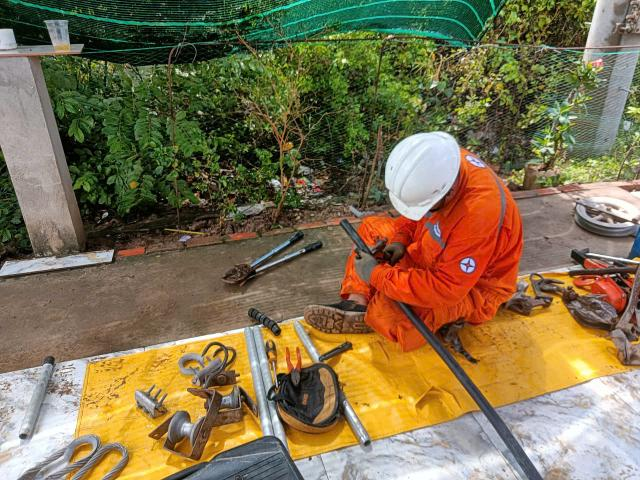gloves: (376, 228, 413, 269), (349, 245, 377, 286)
helmet: (371, 129, 461, 220)
shoes: (311, 292, 375, 342)
